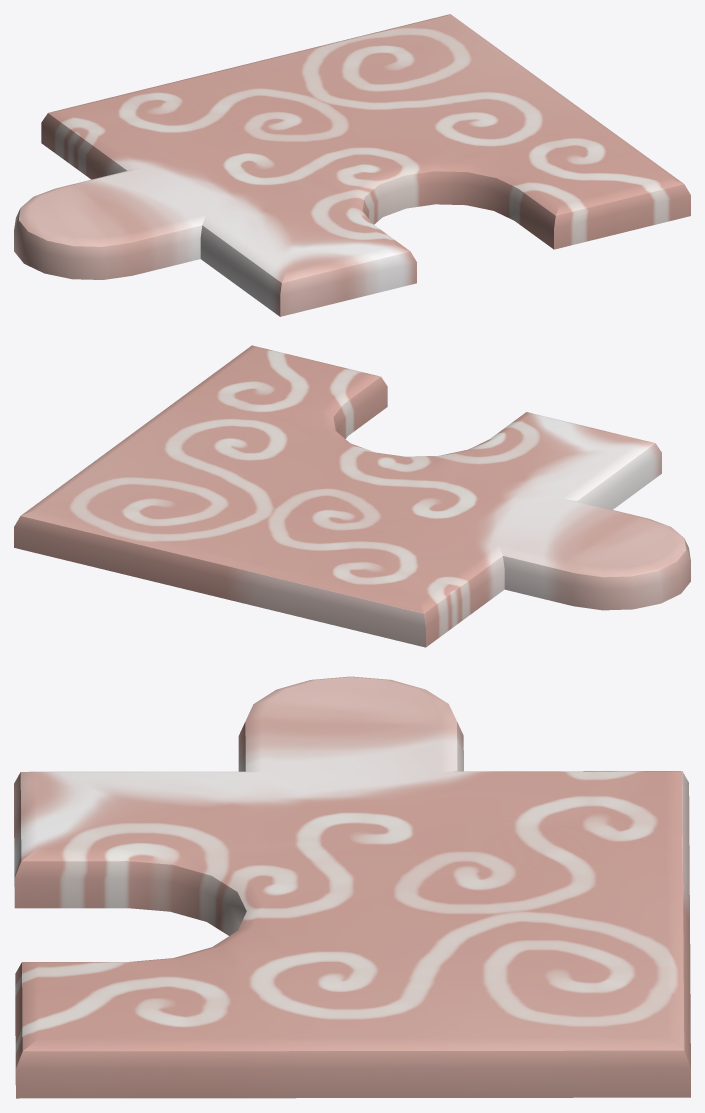
The model's file is puzzle3.fbx.
3 renders of one model, top to bottom at view 1: azimuth 30°, elevation 25°; view 2: azimuth 150°, elevation 25°; view 3: azimuth 270°, elevation 25°, orthographic. The views are drawn at different scales.
Parts seen in each view (by area): view 1: polySurface1; view 2: polySurface1; view 3: polySurface1.
Part boxes in pixels (<box>): polySurface1: <box>14,14,690,316</box>; polySurface1: <box>14,345,690,647</box>; polySurface1: <box>14,676,690,1098</box>.
Bounding box in the file's own units: 1.33 × 0.0821 × 1.
